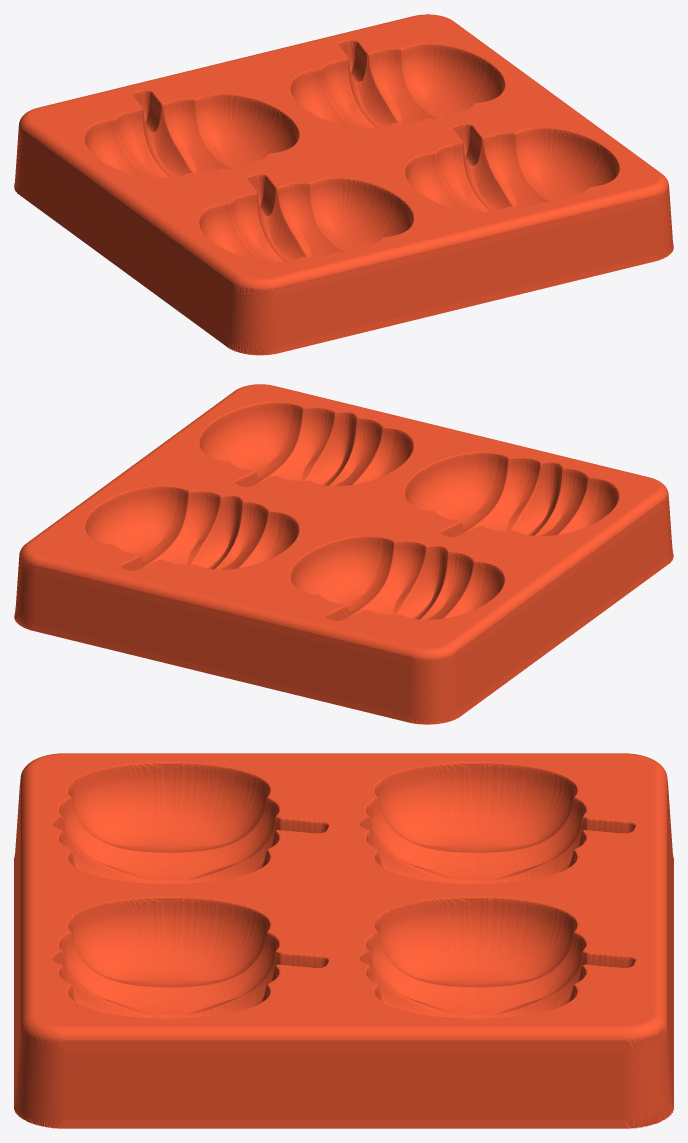
File: mold.glb
3 renders of one model, top to bottom at view 1: azimuth 30°, elevation 25°; view 2: azimuth 150°, elevation 25°; view 3: azimuth 270°, elevation 25°, orthographic. The views are drawn at different scales.
Parts seen in each view (by area): view 1: geometry_0; view 2: geometry_0; view 3: geometry_0.
Part boxes in pixels (box(x1,y1,x2,y2)): geometry_0: box(14, 14, 673, 355); geometry_0: box(14, 384, 673, 724); geometry_0: box(14, 753, 673, 1128).
Size of the model in its own units: 0.1218 by 0.0185 by 0.1177.
